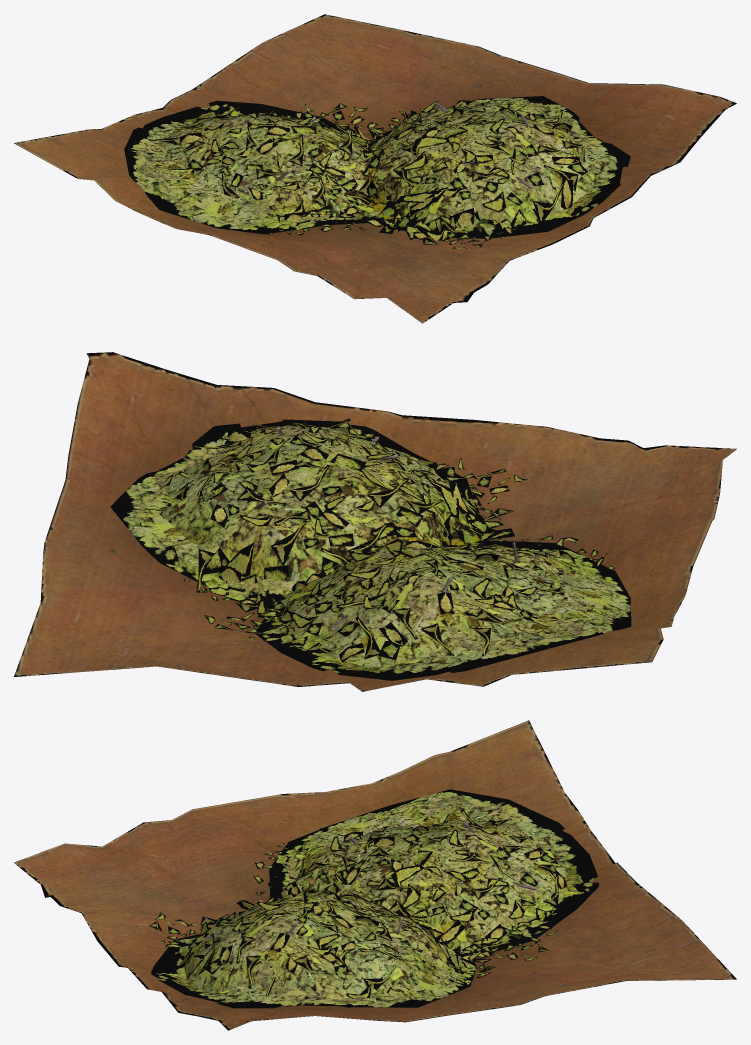
File: sm70_004_herbsgg01a.fbx
3 views of the same model, one above another, from view 1: azimuth 30°, elevation 25°; view 2: azimuth 150°, elevation 25°; view 3: azimuth 270°, elevation 25° (orthographic). The views are drawn at different scales.
Parts seen in each view (by area): view 1: LOD_1_Group_0_Sub_1__sm70_004_HerbsGG01A_Mat__Env_AlphaTest, LOD_1_Group_4_Sub_1__sm70_004_HerbsGG01A_Mat__Env_AlphaTest, LOD_1_Group_2_Sub_1__sm70_004_HerbsGG01A_Mat__Env_AlphaTest; view 2: LOD_1_Group_0_Sub_1__sm70_004_HerbsGG01A_Mat__Env_AlphaTest, LOD_1_Group_4_Sub_1__sm70_004_HerbsGG01A_Mat__Env_AlphaTest, LOD_1_Group_2_Sub_1__sm70_004_HerbsGG01A_Mat__Env_AlphaTest; view 3: LOD_1_Group_0_Sub_1__sm70_004_HerbsGG01A_Mat__Env_AlphaTest, LOD_1_Group_2_Sub_1__sm70_004_HerbsGG01A_Mat__Env_AlphaTest, LOD_1_Group_4_Sub_1__sm70_004_HerbsGG01A_Mat__Env_AlphaTest.
Part boxes in pixels (x1,y1,x2,y2): LOD_1_Group_0_Sub_1__sm70_004_HerbsGG01A_Mat__Env_AlphaTest: (14, 14, 736, 323); LOD_1_Group_4_Sub_1__sm70_004_HerbsGG01A_Mat__Env_AlphaTest: (325, 96, 630, 248); LOD_1_Group_2_Sub_1__sm70_004_HerbsGG01A_Mat__Env_AlphaTest: (124, 100, 385, 235); LOD_1_Group_0_Sub_1__sm70_004_HerbsGG01A_Mat__Env_AlphaTest: (14, 352, 736, 691); LOD_1_Group_4_Sub_1__sm70_004_HerbsGG01A_Mat__Env_AlphaTest: (110, 418, 527, 612); LOD_1_Group_2_Sub_1__sm70_004_HerbsGG01A_Mat__Env_AlphaTest: (204, 535, 631, 680); LOD_1_Group_0_Sub_1__sm70_004_HerbsGG01A_Mat__Env_AlphaTest: (14, 720, 736, 1030); LOD_1_Group_2_Sub_1__sm70_004_HerbsGG01A_Mat__Env_AlphaTest: (253, 789, 598, 963); LOD_1_Group_4_Sub_1__sm70_004_HerbsGG01A_Mat__Env_AlphaTest: (149, 869, 495, 1008).
Size of the model in its own units: 0.2906 by 0.0355 by 0.2875.
